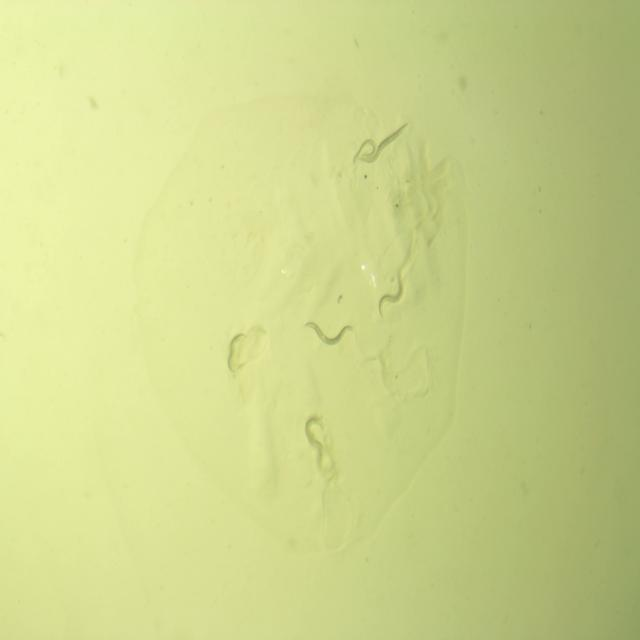worm: (358, 116, 413, 165), (220, 318, 253, 384), (300, 312, 357, 350), (372, 268, 408, 324), (301, 410, 333, 464), (349, 134, 380, 172)
